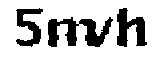5: (12, 5, 44, 52)
h: (115, 4, 149, 52)
n: (46, 16, 77, 51)
v: (80, 13, 113, 51)
